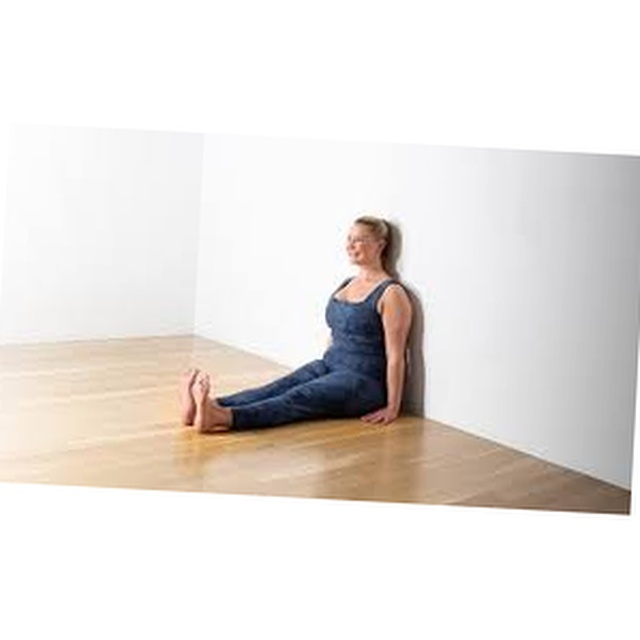Staff_Pose: (182, 214, 413, 437)
